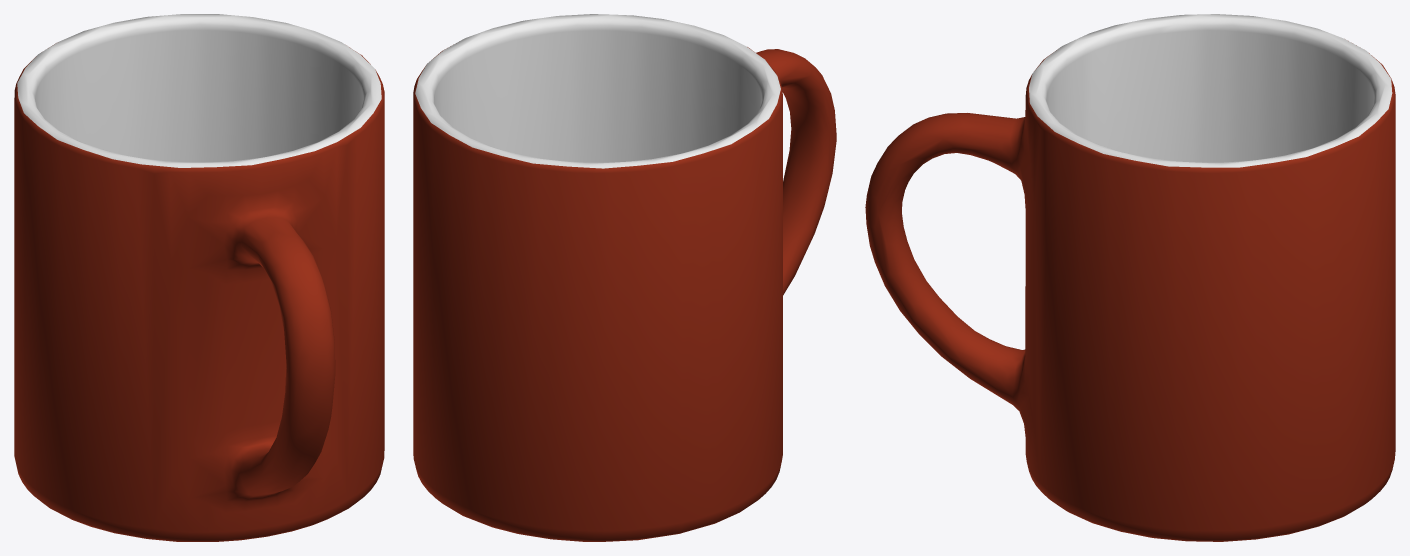
File: MUG rouge.fbx
The picture shows the model from 3 angles, left to right: view 1: azimuth 30°, elevation 25°; view 2: azimuth 150°, elevation 25°; view 3: azimuth 270°, elevation 25°; orthographic projection.
Parts seen in each view (by area): view 1: Mesh.Mug; view 2: Mesh.Mug; view 3: Mesh.Mug.
Part boxes in pixels (left/top/right/bottom): Mesh.Mug: left=14, top=14, right=384, bottom=541; Mesh.Mug: left=413, top=14, right=836, bottom=541; Mesh.Mug: left=865, top=14, right=1395, bottom=541.
Size of the model in its own units: 195 by 220 by 279.
